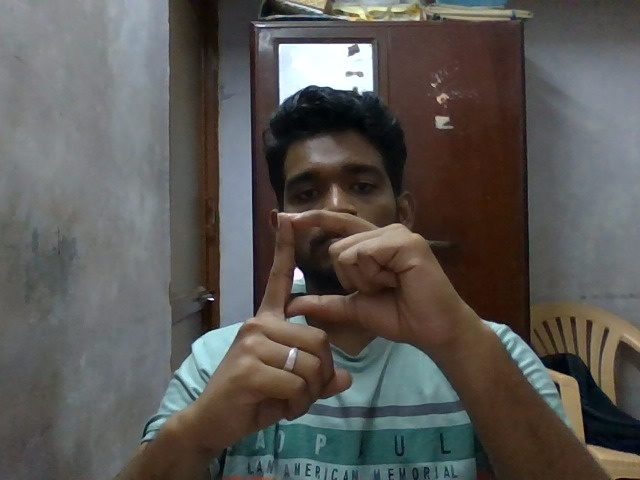D: (190, 206, 470, 441)
